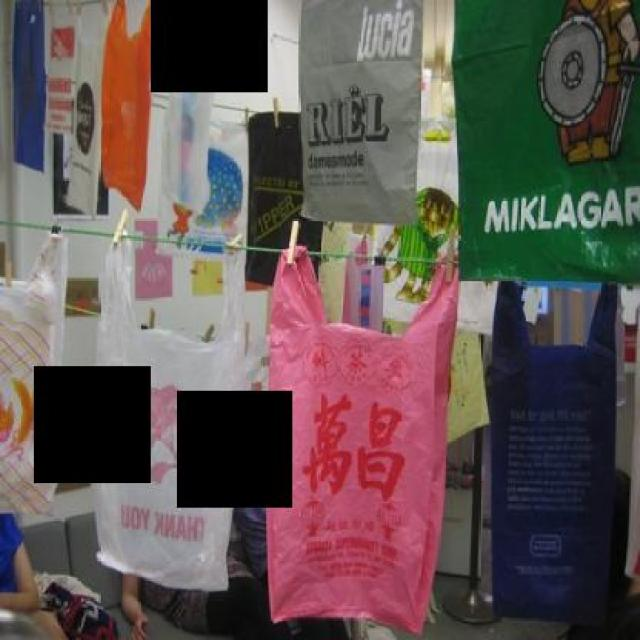plastic bag: (261, 247, 457, 638), (85, 215, 246, 596), (448, 0, 638, 277), (485, 280, 623, 626), (298, 0, 422, 231), (0, 222, 69, 528), (158, 0, 221, 215), (97, 0, 155, 220), (244, 114, 318, 281), (64, 0, 98, 223), (11, 0, 46, 174), (46, 0, 72, 135)
